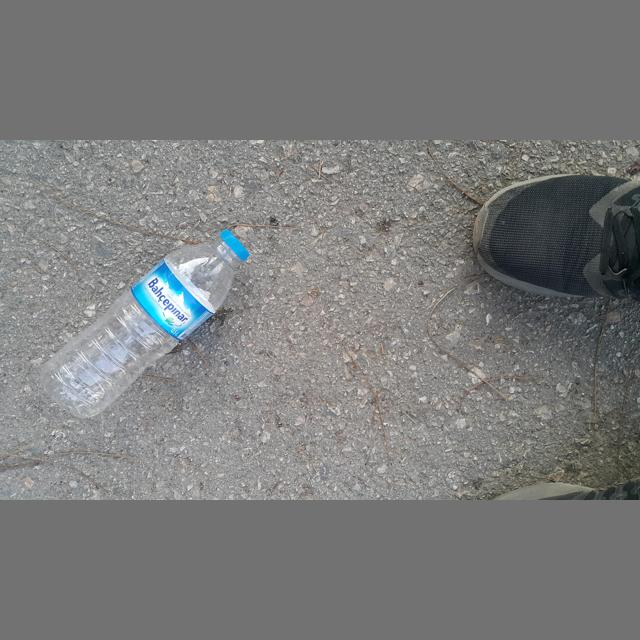litter: (40, 229, 250, 419), (219, 229, 250, 261)
